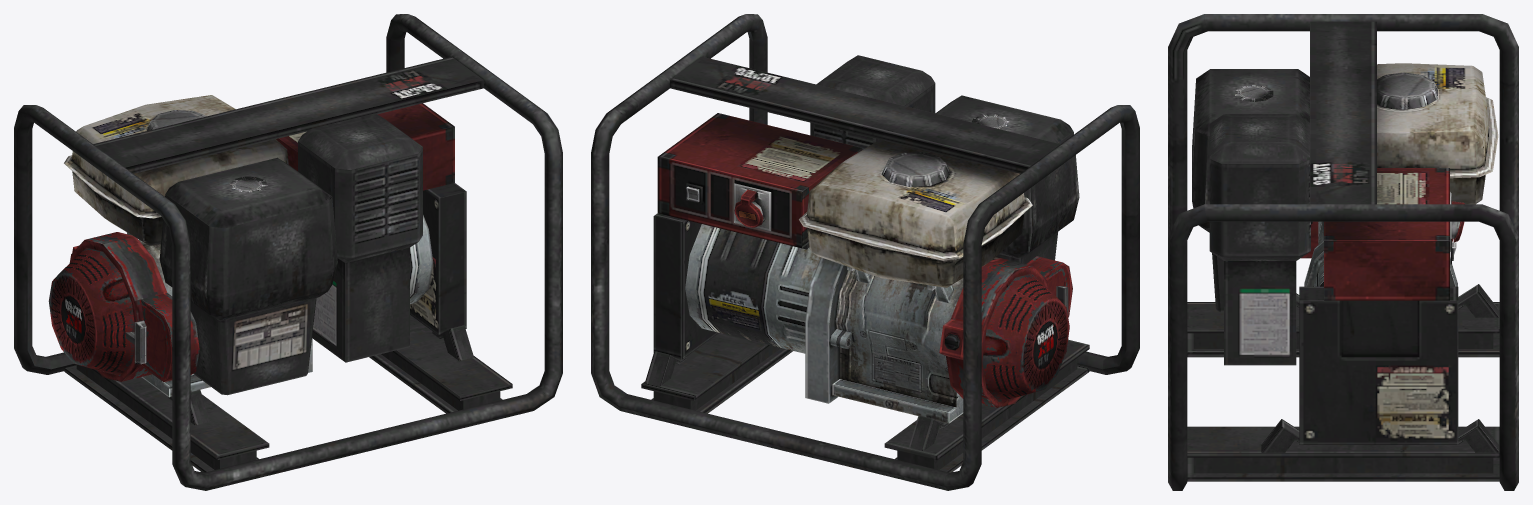
The model's file is Generator.obj.
3 renders of one model, left to right at view 1: azimuth 30°, elevation 25°; view 2: azimuth 150°, elevation 25°; view 3: azimuth 270°, elevation 25°, orthographic. The views are drawn at different scales.
Parts seen in each view (by area): view 1: Mesh_0235; view 2: Mesh_0235; view 3: Mesh_0235.
Boxes of the visible parts, <box> form: Mesh_0235: <box>14,14,562,490</box>; Mesh_0235: <box>591,14,1139,490</box>; Mesh_0235: <box>1168,14,1518,490</box>.
Size of the model in its own units: 9915 by 6873 by 7359.
